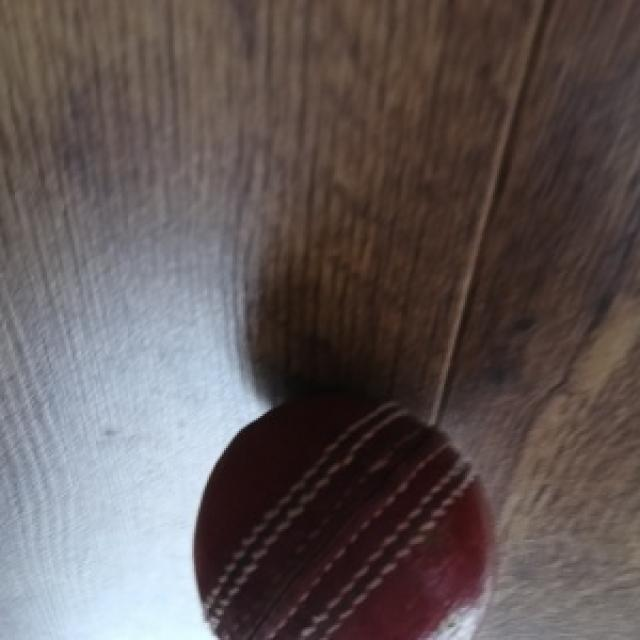ball: (192, 395, 497, 640)
